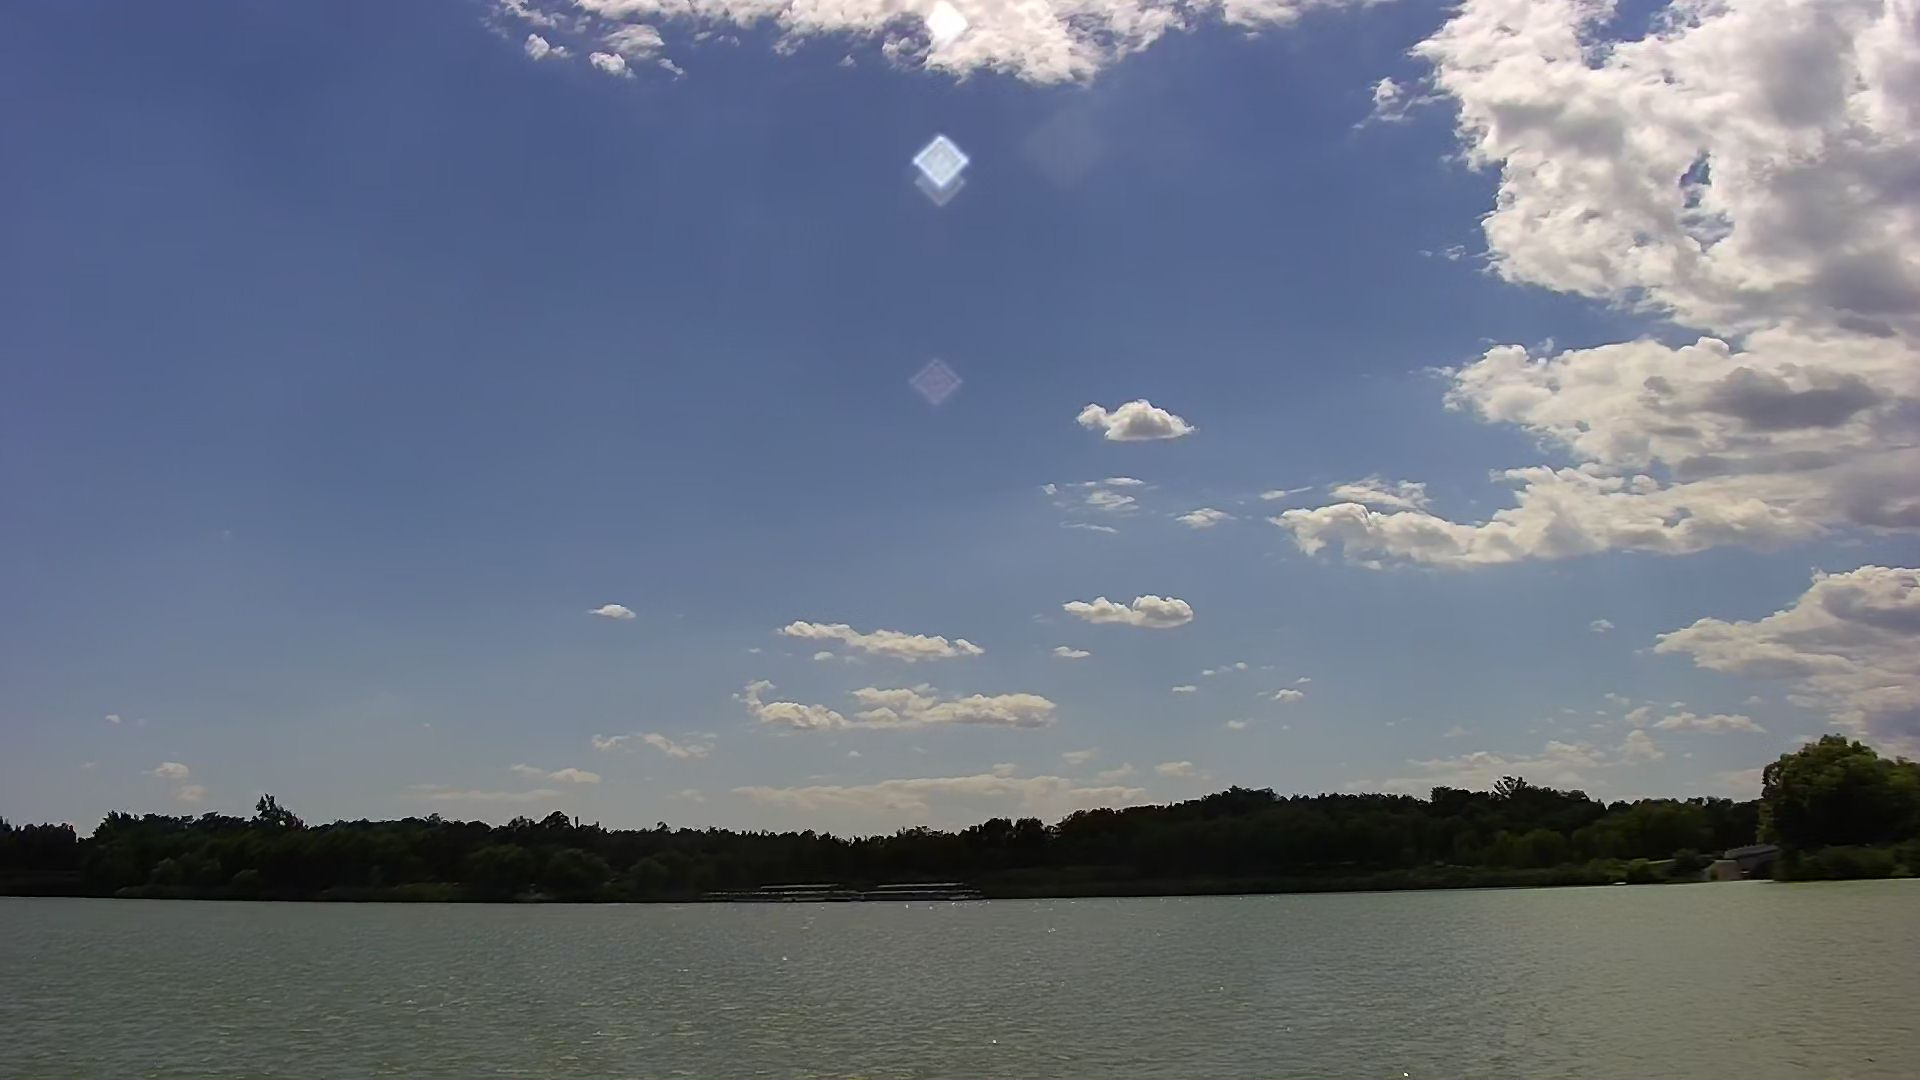harbor: (774, 880, 953, 899)
